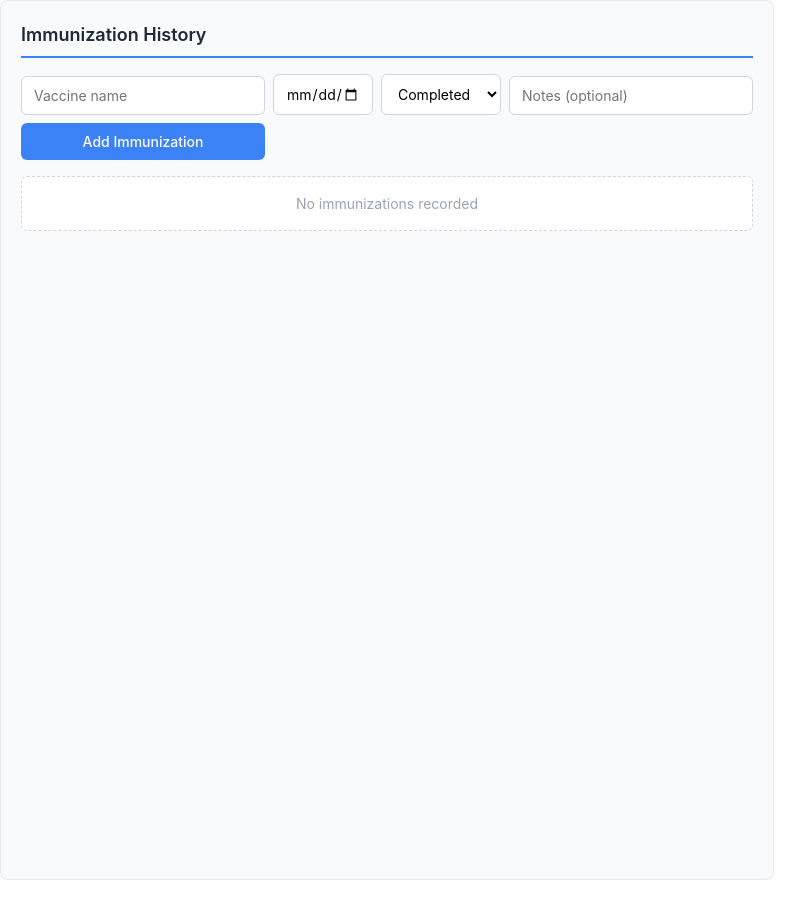
Test case: ImmunizationHistory (non-wizard) › adds an immunization entry
Type "Influenza" into the field with placeholder "Vaccine name" at (143, 96), box [21,76,265,115]
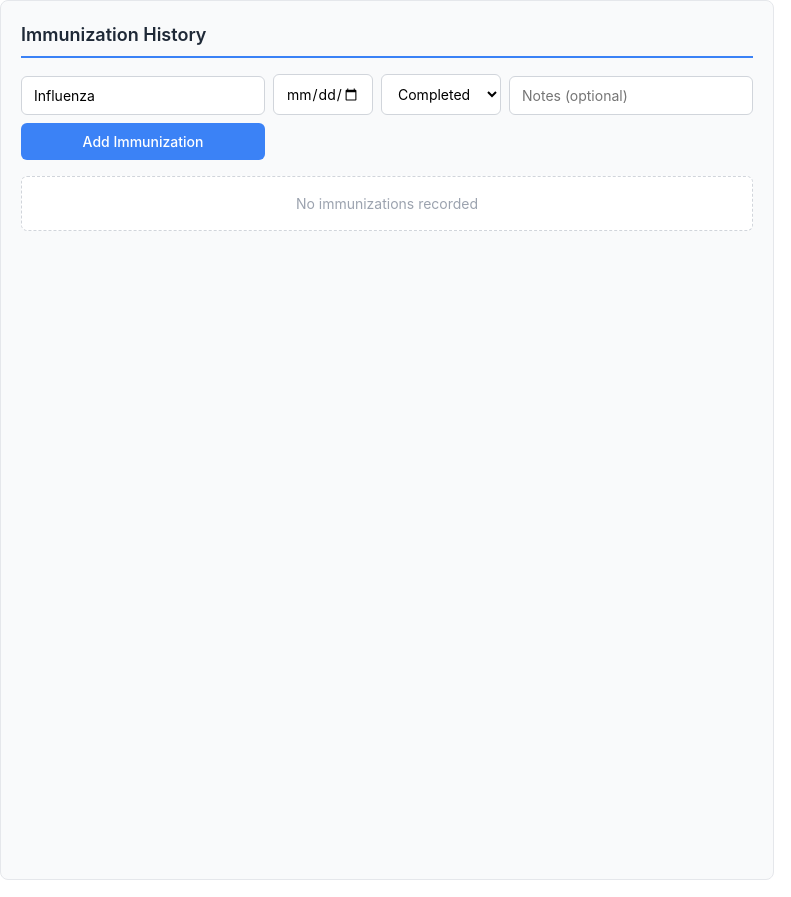
Click the button "Add Immunization" at (143, 142), box [21,123,265,160]
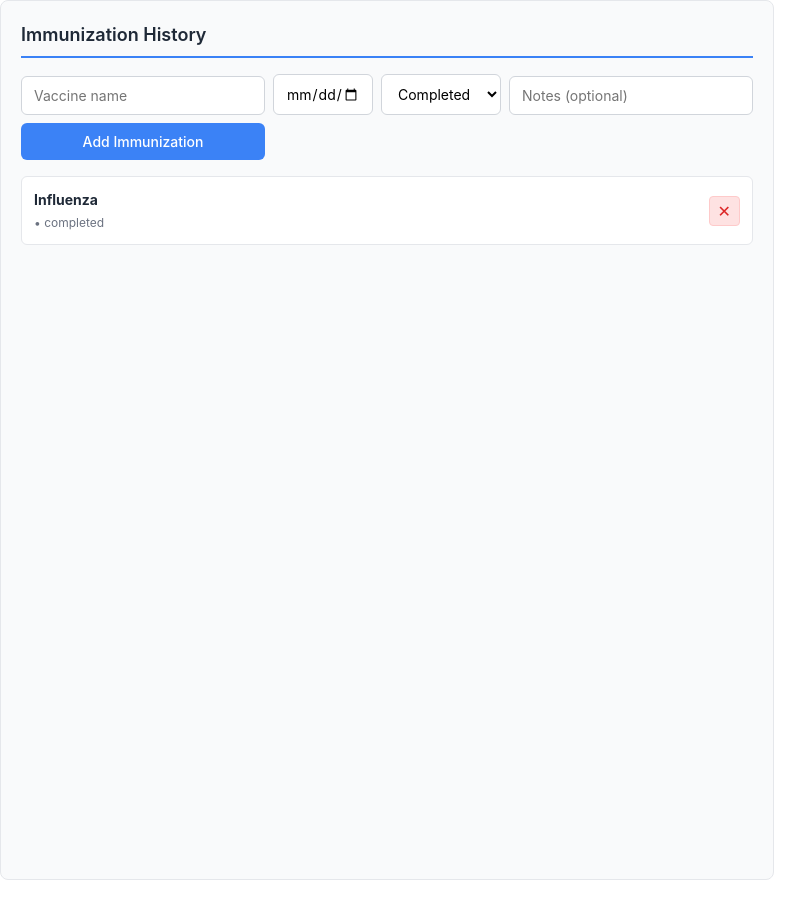
Now the text "Influenza" is shown, box [34,191,98,208]
